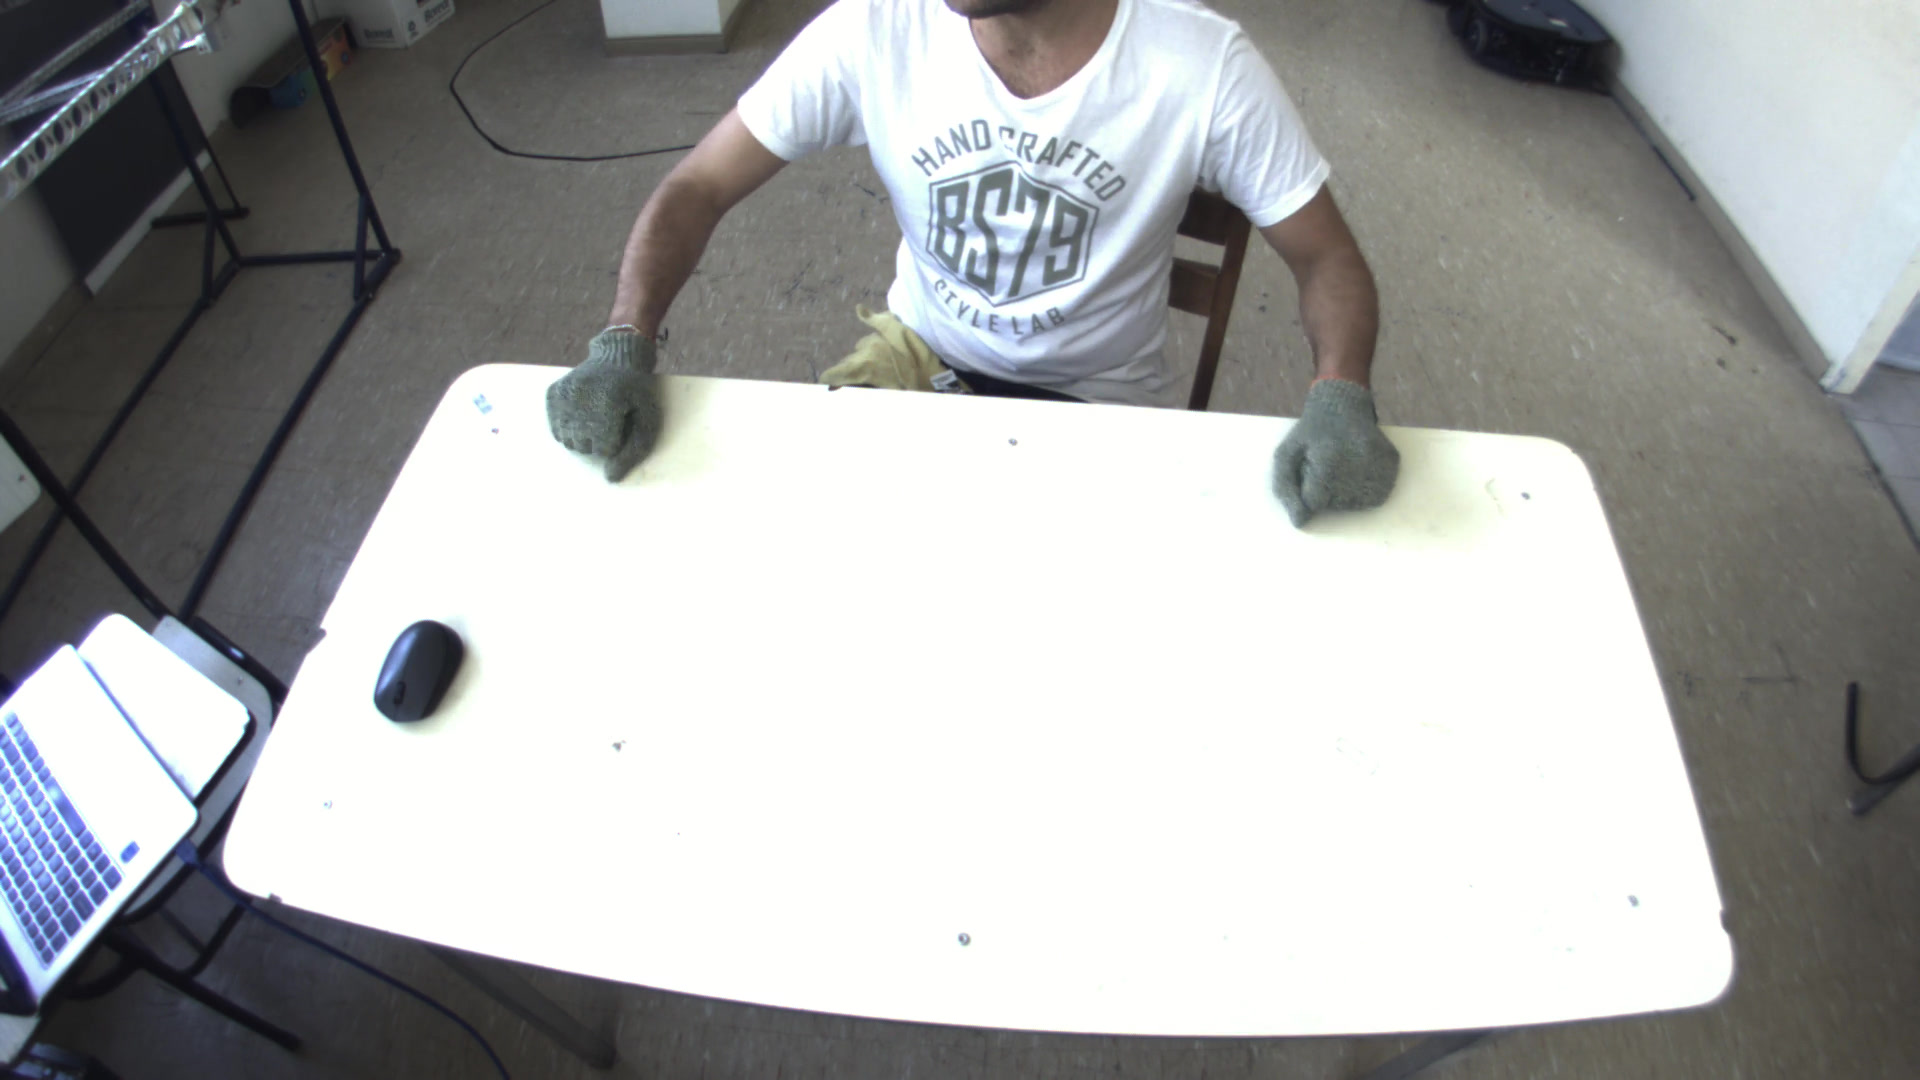hand: (535, 309, 671, 487), (1273, 373, 1414, 512)
